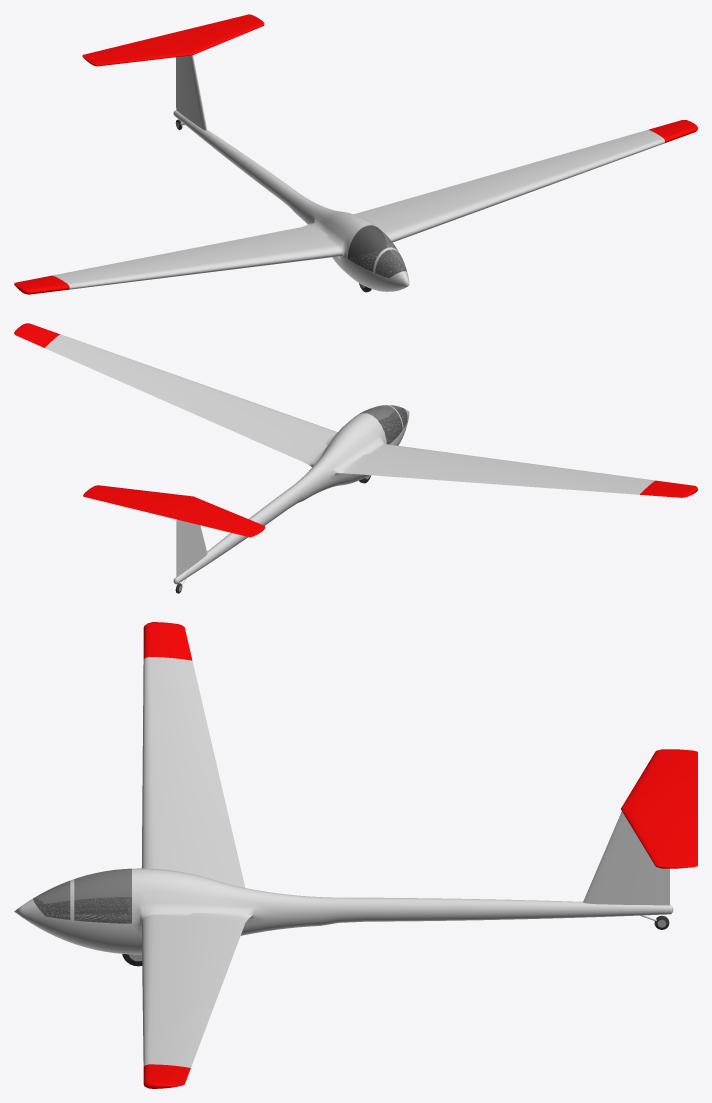
File: glider.dae
3 renders of one model, top to bottom at view 1: azimuth 30°, elevation 25°; view 2: azimuth 150°, elevation 25°; view 3: azimuth 270°, elevation 25°, orthographic. The views are drawn at different scales.
Visible parts, largest first — view 1: SketchUp (×7); view 2: SketchUp (×6); view 3: SketchUp (×7).
Boxes of the visible parts, <box> form: SketchUp (×7): <box>14,14,697,294</box>; SketchUp (×6): <box>14,323,697,584</box>; SketchUp (×7): <box>14,622,697,1088</box>.
Bounding box in the file's own units: 2767 × 1726 × 441.
